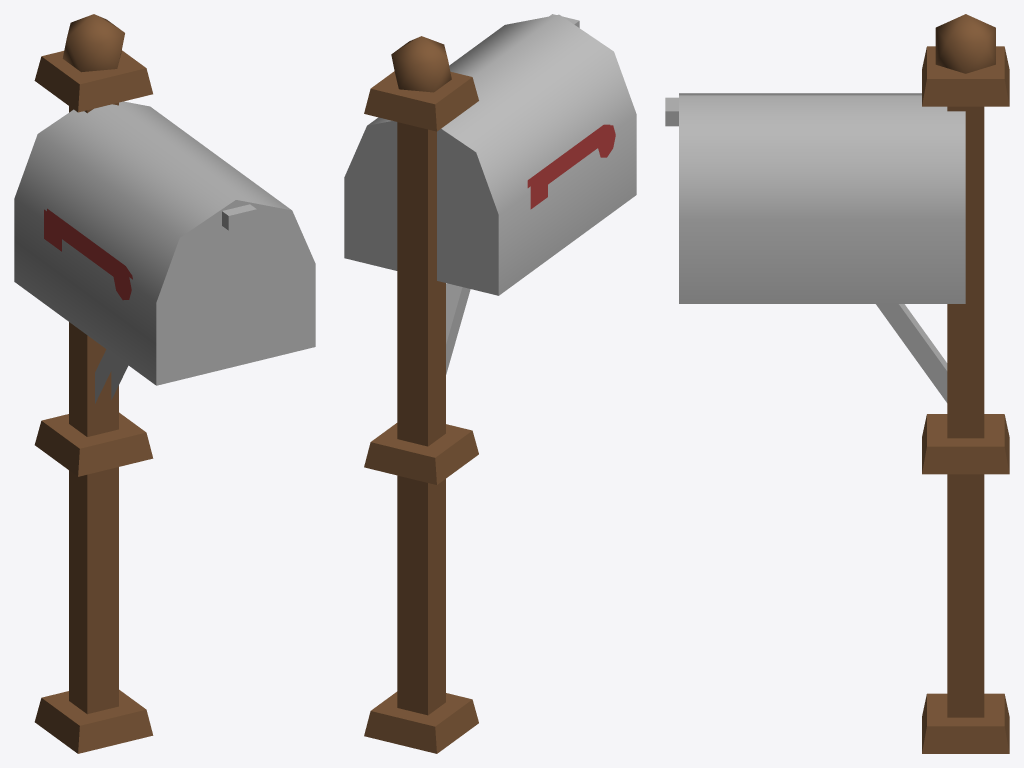
The model's file is Mailbox.fbx.
3 renders of one model, left to right at view 1: azimuth 30°, elevation 25°; view 2: azimuth 150°, elevation 25°; view 3: azimuth 270°, elevation 25°, orthographic. The views are drawn at different scales.
Visible parts, largest first — view 1: Mailbox, Mailbox2, Mailbox3; view 2: Mailbox, Mailbox2, Mailbox3; view 3: Mailbox, Mailbox2.
Boxes of the visible parts, x1,y1,x2,y2 form: Mailbox: [14, 14, 282, 753]; Mailbox2: [147, 193, 315, 385]; Mailbox3: [44, 208, 132, 300]; Mailbox: [344, 21, 627, 753]; Mailbox2: [496, 14, 636, 200]; Mailbox3: [527, 124, 615, 209]; Mailbox: [697, 14, 1009, 753]; Mailbox2: [665, 93, 697, 303].
Bounding box in the file's own units: 101 × 429 × 186.
